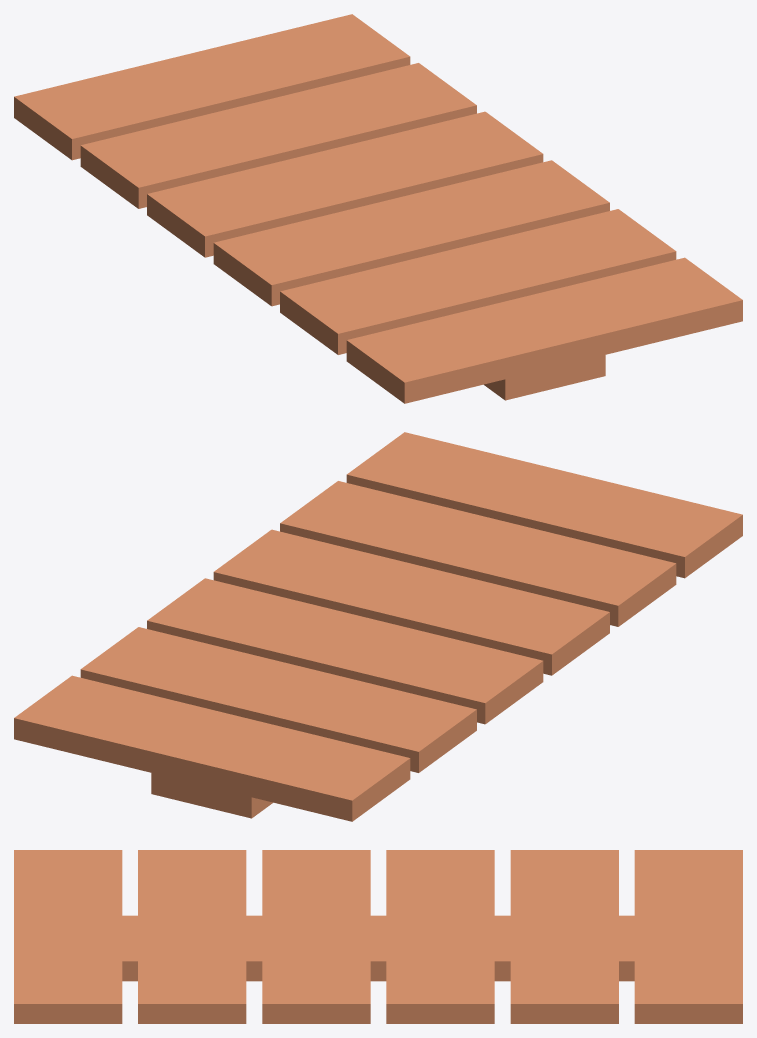
File: planksHalf.glb
The picture shows the model from 3 angles, top to bottom: view 1: azimuth 30°, elevation 25°; view 2: azimuth 150°, elevation 25°; view 3: azimuth 270°, elevation 25°; orthographic projection. The views are drawn at different scales.
Parts seen in each view (by area): view 1: planks; view 2: planks; view 3: planks.
Part boxes in pixels (<box>): planks: <box>14,14,742,403</box>; planks: <box>14,432,742,821</box>; planks: <box>14,850,742,1023</box>.
Bounding box in the file's own units: 0.5 × 0.06 × 1.
